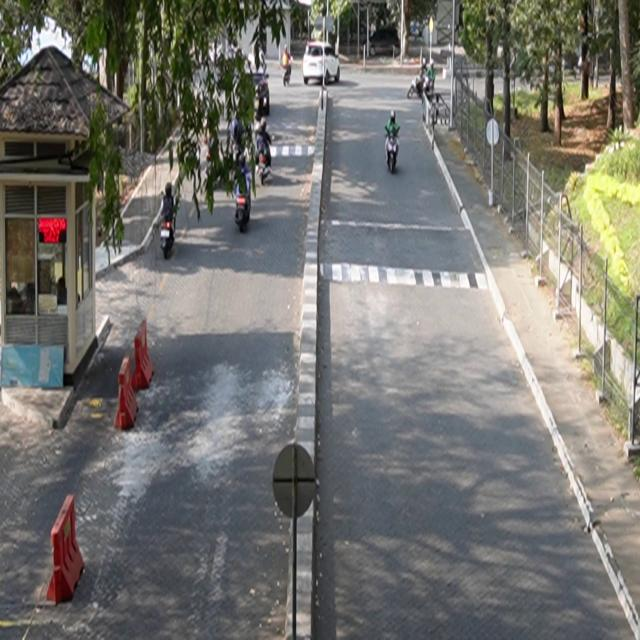car: (303, 41, 341, 86), (365, 26, 402, 58)
